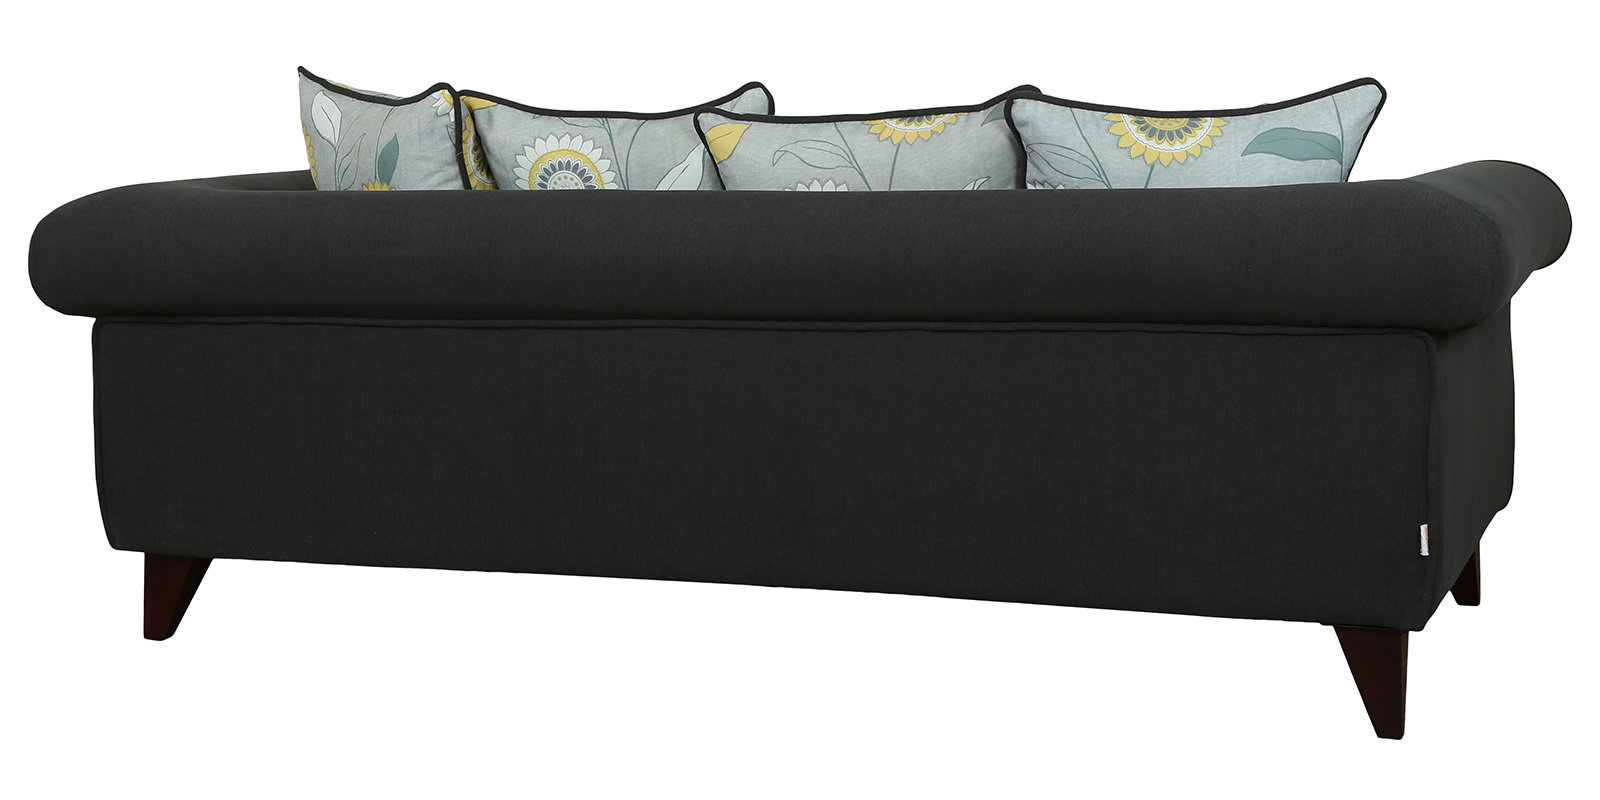Cielo Three Seater Sofa in Charcoal Grey Colour by CasaCraft: (28, 72, 1580, 691)
